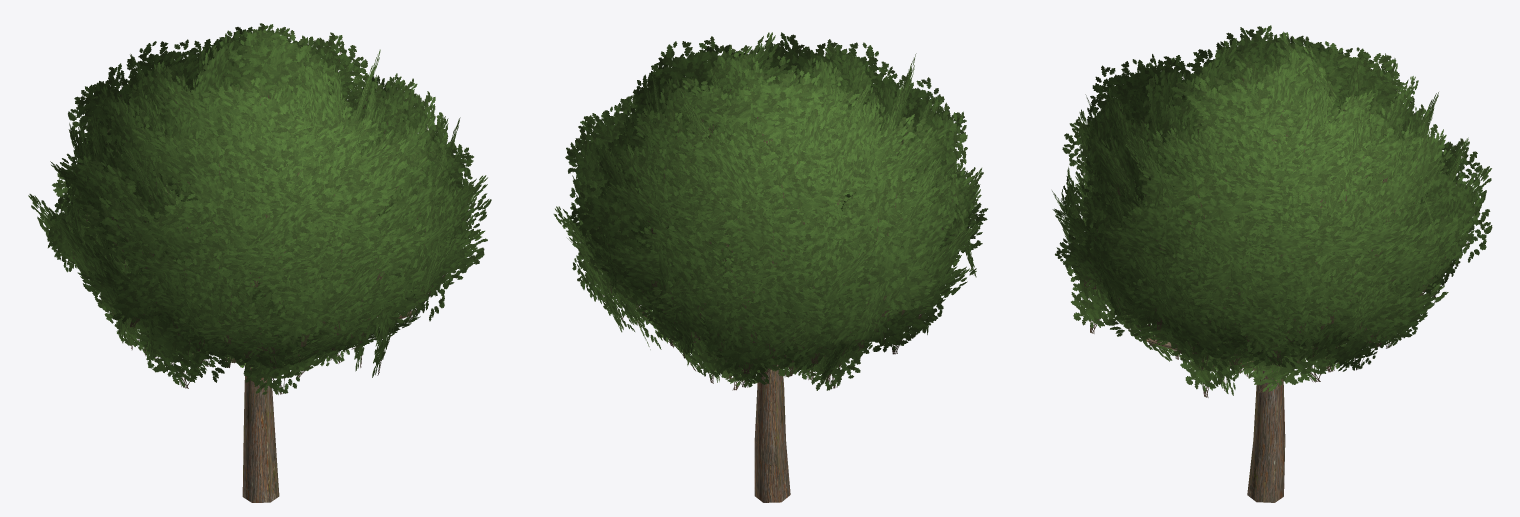
Rendered from trad_ek_b.glb.
3 views of the same model, side by side, from view 1: azimuth 30°, elevation 25°; view 2: azimuth 150°, elevation 25°; view 3: azimuth 270°, elevation 25° (orthographic).
Visible parts, largest first — view 1: trad_ek_b; view 2: trad_ek_b; view 3: trad_ek_b.
Boxes of the visible parts, x1=… form: trad_ek_b: x1=28, y1=23, x2=491, y2=502; trad_ek_b: x1=553, y1=32, x2=987, y2=502; trad_ek_b: x1=1052, y1=25, x2=1492, y2=502.
Size of the model in its own units: 13 by 14 by 13.
Materials: 1 (1 with a texture image).
